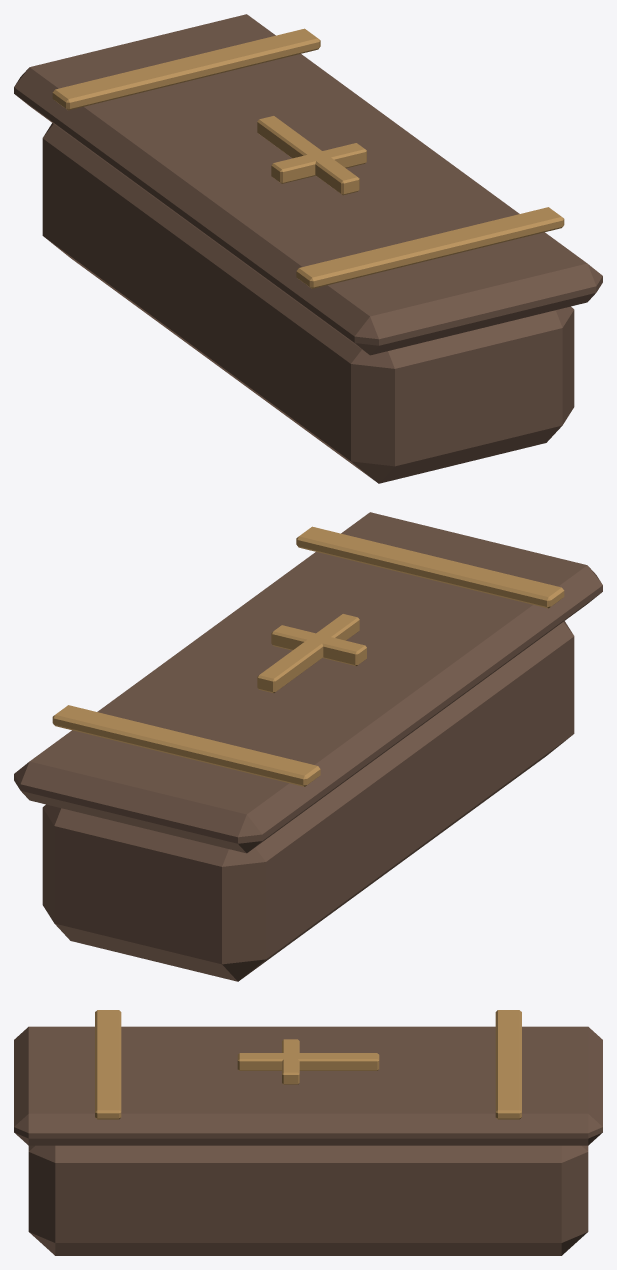
File: L01R_Coffin.fbx
3 views of the same model, one above another, from view 1: azimuth 30°, elevation 25°; view 2: azimuth 150°, elevation 25°; view 3: azimuth 270°, elevation 25° (orthographic). The views are drawn at different scales.
Parts seen in each view (by area): view 1: L01R_Coffin; view 2: L01R_Coffin; view 3: L01R_Coffin.
Part boxes in pixels (<box>): L01R_Coffin: <box>14,14,602,483</box>; L01R_Coffin: <box>14,512,602,981</box>; L01R_Coffin: <box>14,1010,602,1255</box>.
Size of the model in its own units: 82 by 62.25 by 200.
